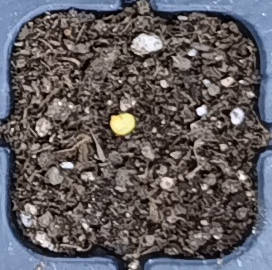pepper seed: (40, 43, 177, 180)
